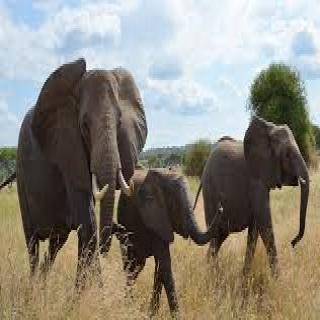Elephant: (8, 54, 150, 302), (192, 106, 311, 282), (116, 162, 226, 320)
